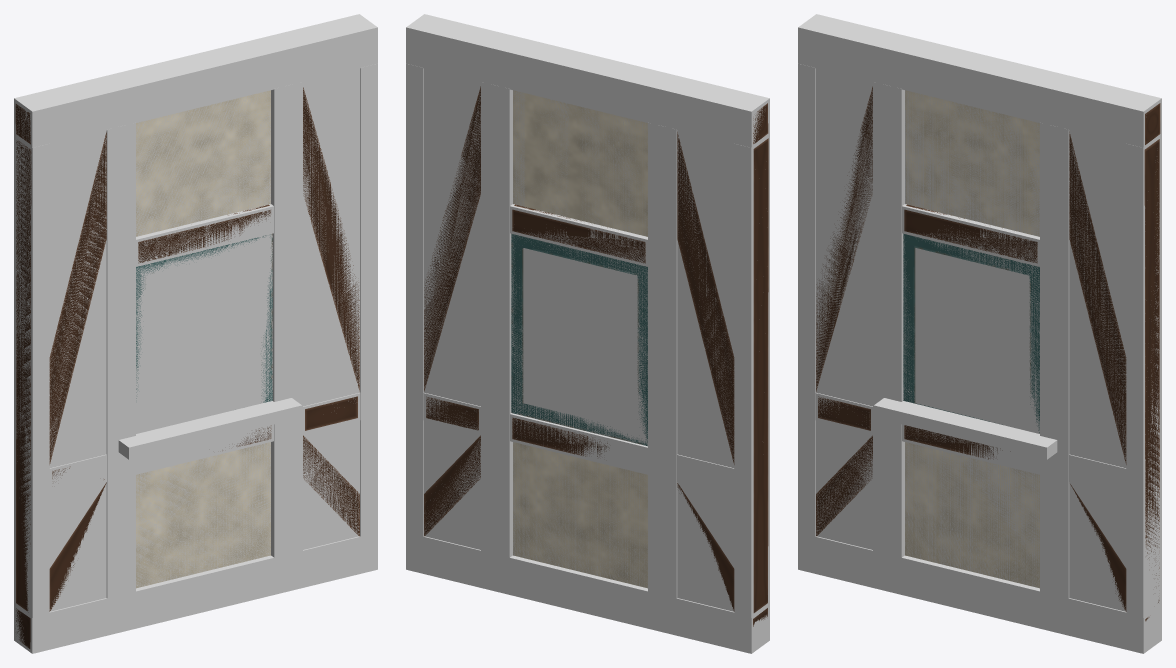
File: timber_wall.glb
3 renders of one model, left to right at view 1: azimuth 30°, elevation 25°; view 2: azimuth 150°, elevation 25°; view 3: azimuth 330°, elevation 25°, orthographic.
Visible parts, largest first — view 1: plaster, COL_timber_wall_15, COL_timber_wall_00, COL_timber_wall_02, COL_timber_wall_13, COL_timber_wall_14, COL_timber_wall_04, COL_timber_wall_05, COL_timber_wall_01, COL_timber_wall_06, COL_timber_wall_03, corner_post_left (+14 smaller); view 2: plaster, COL_timber_wall_15, COL_timber_wall_02, COL_timber_wall_13, COL_timber_wall_05, COL_timber_wall_01, COL_timber_wall_06, COL_timber_wall_14, COL_timber_wall_00, COL_timber_wall_04, COL_timber_wall_03, corner_post_left (+14 smaller); view 3: plaster, COL_timber_wall_00, COL_timber_wall_15, COL_timber_wall_02, COL_timber_wall_14, COL_timber_wall_13, COL_timber_wall_01, COL_timber_wall_06, COL_timber_wall_05, COL_timber_wall_03, COL_timber_wall_04, brace_high_right (+15 smaller).
Part boxes in pixels (x1,y1,x2,y2): plaster: (136, 90, 270, 588); COL_timber_wall_15: (136, 234, 272, 433); COL_timber_wall_00: (136, 90, 270, 587); COL_timber_wall_02: (14, 14, 377, 147); COL_timber_wall_13: (303, 68, 359, 406); COL_timber_wall_14: (49, 130, 106, 467); COL_timber_wall_04: (14, 134, 49, 617); COL_timber_wall_05: (271, 82, 302, 558); COL_timber_wall_01: (14, 533, 377, 653); COL_timber_wall_06: (106, 122, 135, 599); COL_timber_wall_03: (360, 63, 377, 537); corner_post_left: (16, 140, 31, 612); plaster: (513, 90, 647, 588); COL_timber_wall_15: (511, 234, 647, 445); COL_timber_wall_02: (406, 14, 769, 147); COL_timber_wall_13: (424, 68, 480, 406); COL_timber_wall_05: (481, 82, 512, 558); COL_timber_wall_01: (406, 533, 769, 653); COL_timber_wall_06: (648, 122, 677, 599); COL_timber_wall_14: (677, 130, 734, 467); COL_timber_wall_00: (513, 90, 647, 587); COL_timber_wall_04: (734, 134, 769, 617); COL_timber_wall_03: (406, 63, 423, 537); corner_post_left: (753, 138, 768, 612); plaster: (905, 90, 1039, 588); COL_timber_wall_00: (905, 90, 1039, 587); COL_timber_wall_15: (903, 234, 1039, 433); COL_timber_wall_02: (798, 14, 1161, 147); COL_timber_wall_14: (816, 68, 872, 406); COL_timber_wall_13: (1069, 130, 1126, 467); COL_timber_wall_01: (798, 533, 1161, 653); COL_timber_wall_06: (873, 82, 904, 558); COL_timber_wall_05: (1040, 122, 1069, 599); COL_timber_wall_03: (1126, 134, 1161, 617); COL_timber_wall_04: (798, 63, 815, 537); brace_high_right: (1069, 131, 1126, 464).
Bounding box in the file's own units: 2 × 3 × 0.2886.
Materials: 3 (3 with a texture image).
